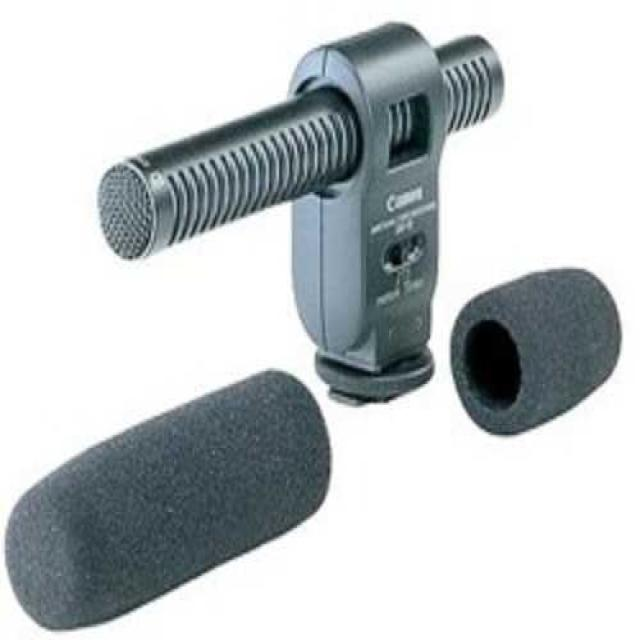microphone: (99, 28, 492, 260)
